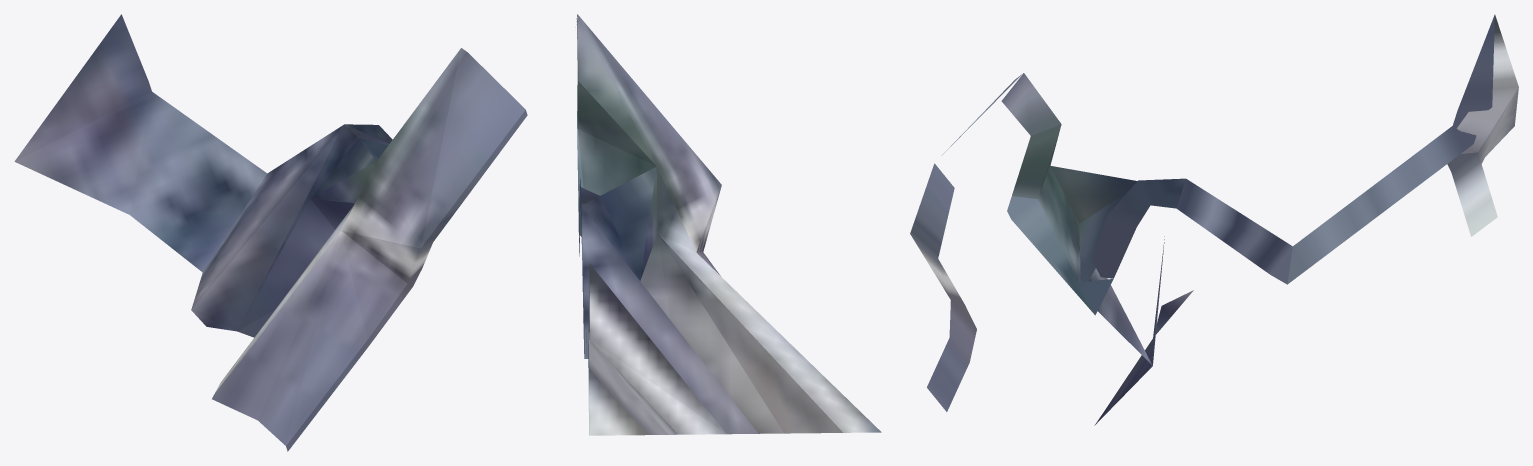
The picture shows the model from 3 angles, left to right: view 1: azimuth 30°, elevation 25°; view 2: azimuth 150°, elevation 25°; view 3: azimuth 270°, elevation 25°; orthographic projection. The views are drawn at different scales.
Bounding box in the file's own units: 7.27 × 7.11 × 8.19.
1 material, 1 textured.
